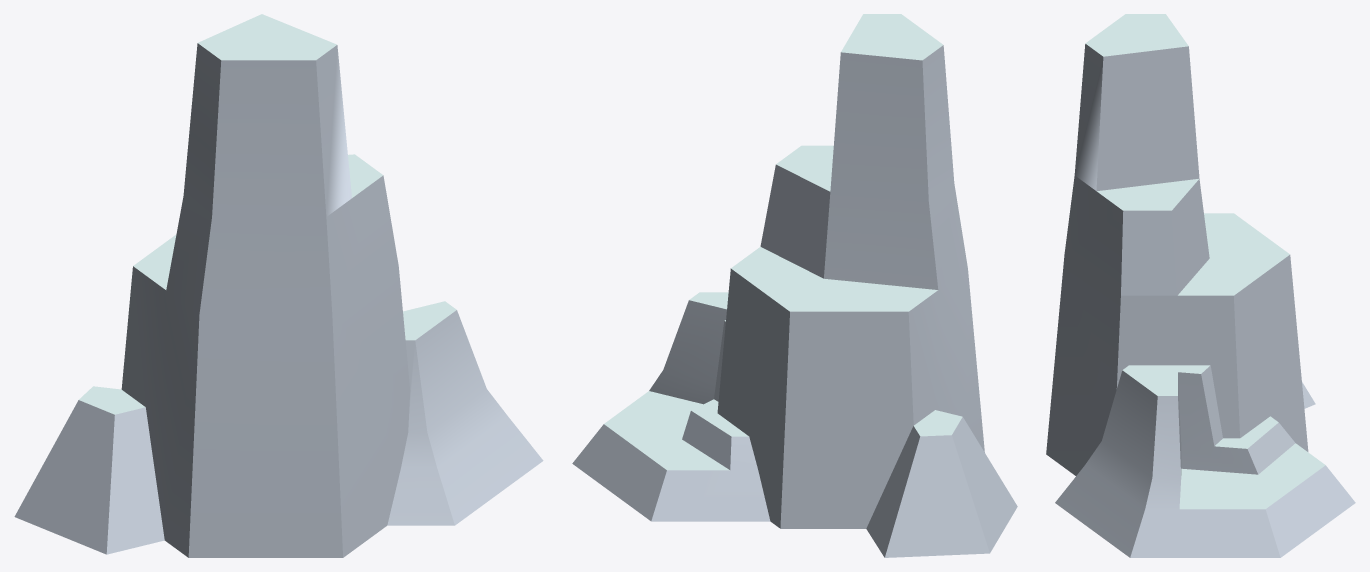
The model's file is rockFormationLarge.glb.
3 views of the same model, side by side, from view 1: azimuth 30°, elevation 25°; view 2: azimuth 150°, elevation 25°; view 3: azimuth 270°, elevation 25° (orthographic). The views are drawn at different scales.
Parts seen in each view (by area): view 1: rockFormationLarge; view 2: rockFormationLarge; view 3: rockFormationLarge.
Boxes of the visible parts, x1=… form: rockFormationLarge: x1=14, y1=14, x2=543, y2=557; rockFormationLarge: x1=572, y1=14, x2=1017, y2=557; rockFormationLarge: x1=1046, y1=14, x2=1355, y2=557.
Size of the model in its own units: 0.9231 by 0.9352 by 0.6416.
